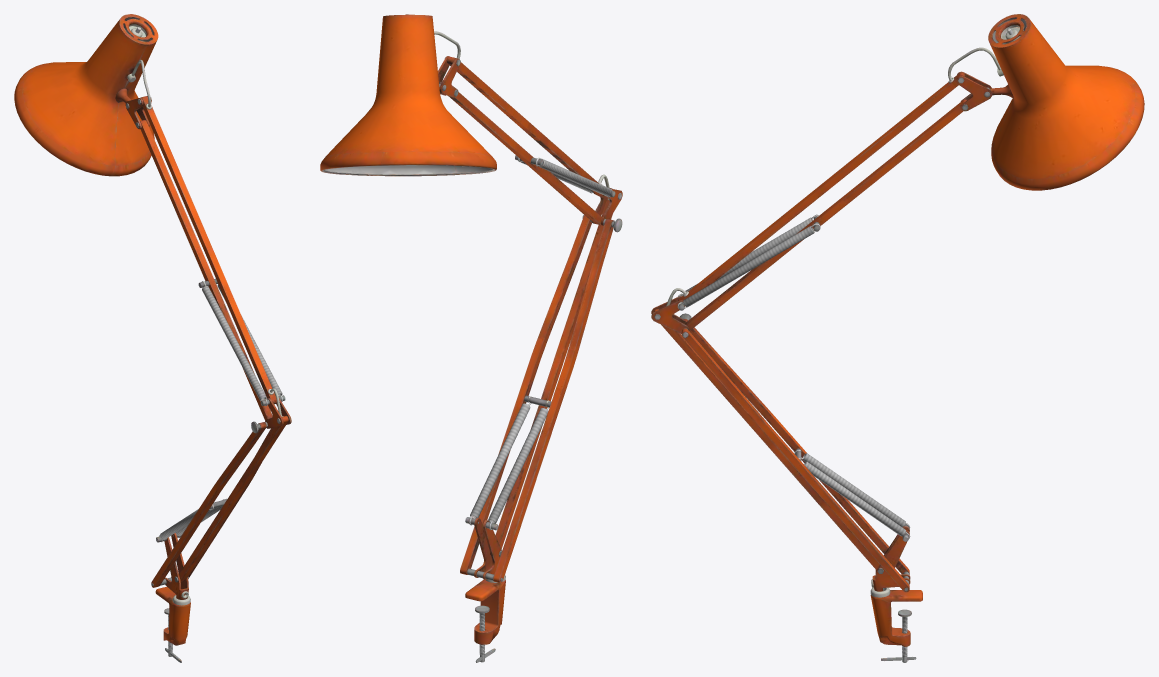
The model's file is desk-lamp-arm-low.glb.
The picture shows the model from 3 angles, left to right: view 1: azimuth 30°, elevation 25°; view 2: azimuth 150°, elevation 25°; view 3: azimuth 270°, elevation 25°; orthographic projection. The views are drawn at different scales.
Parts seen in each view (by area): view 1: desk_lamp_arm_01; view 2: desk_lamp_arm_01; view 3: desk_lamp_arm_01.
Boxes of the visible parts, x1,y1,x2,y2 form: desk_lamp_arm_01: [14, 14, 291, 662]; desk_lamp_arm_01: [320, 14, 622, 662]; desk_lamp_arm_01: [651, 14, 1144, 662].
Size of the model in its own units: 0.2018 by 0.8926 by 0.6139.
Materials: 2 (2 with a texture image).
